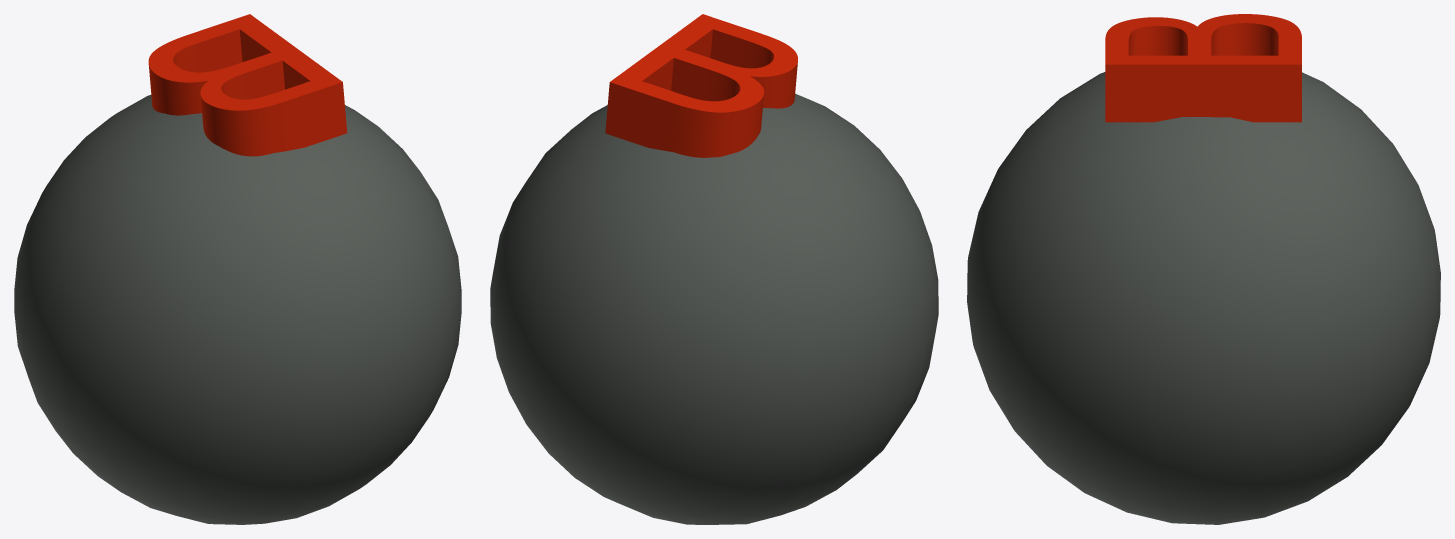
3 views of the same model, side by side, from view 1: azimuth 30°, elevation 25°; view 2: azimuth 150°, elevation 25°; view 3: azimuth 270°, elevation 25° (orthographic). The views are drawn at different scales.
Visible parts, largest first — view 1: B; view 2: B; view 3: B.
Part boxes in pixels (x1=…): B: x1=14, y1=14, x2=461, y2=524; B: x1=490, y1=14, x2=938, y2=524; B: x1=967, y1=14, x2=1440, y2=524.
Bounding box in the file's own units: 38.69 × 42.04 × 38.6.
